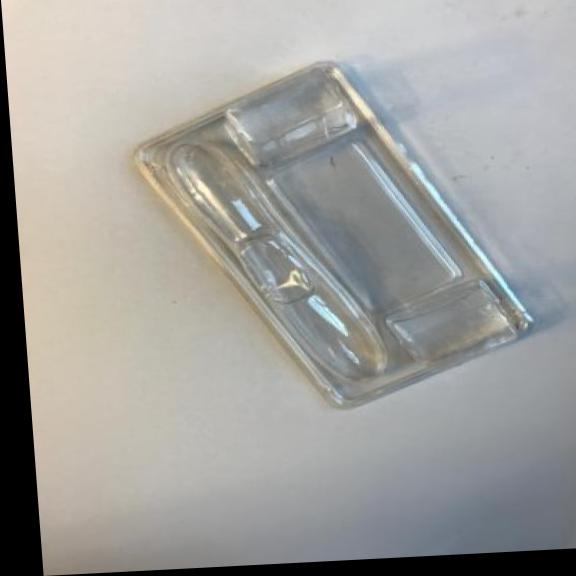Plastik: (122, 45, 541, 425)
